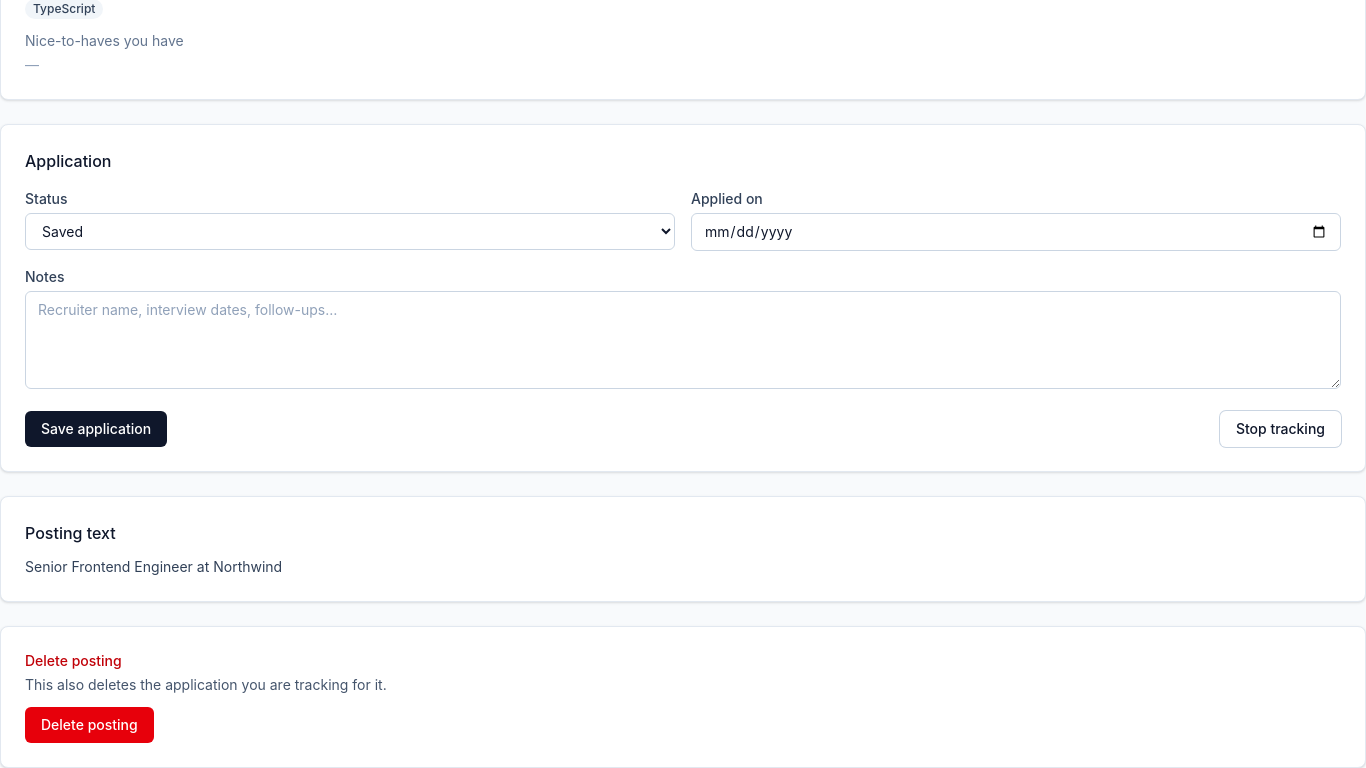
Test: PostingDetailPage › warns that deleting the posting also deletes its application
The width and height of the screenshot is (1366, 768).
(page scrolled)
Click the button "Delete posting": [89, 725] box x1=25 y1=707 x2=154 y2=743
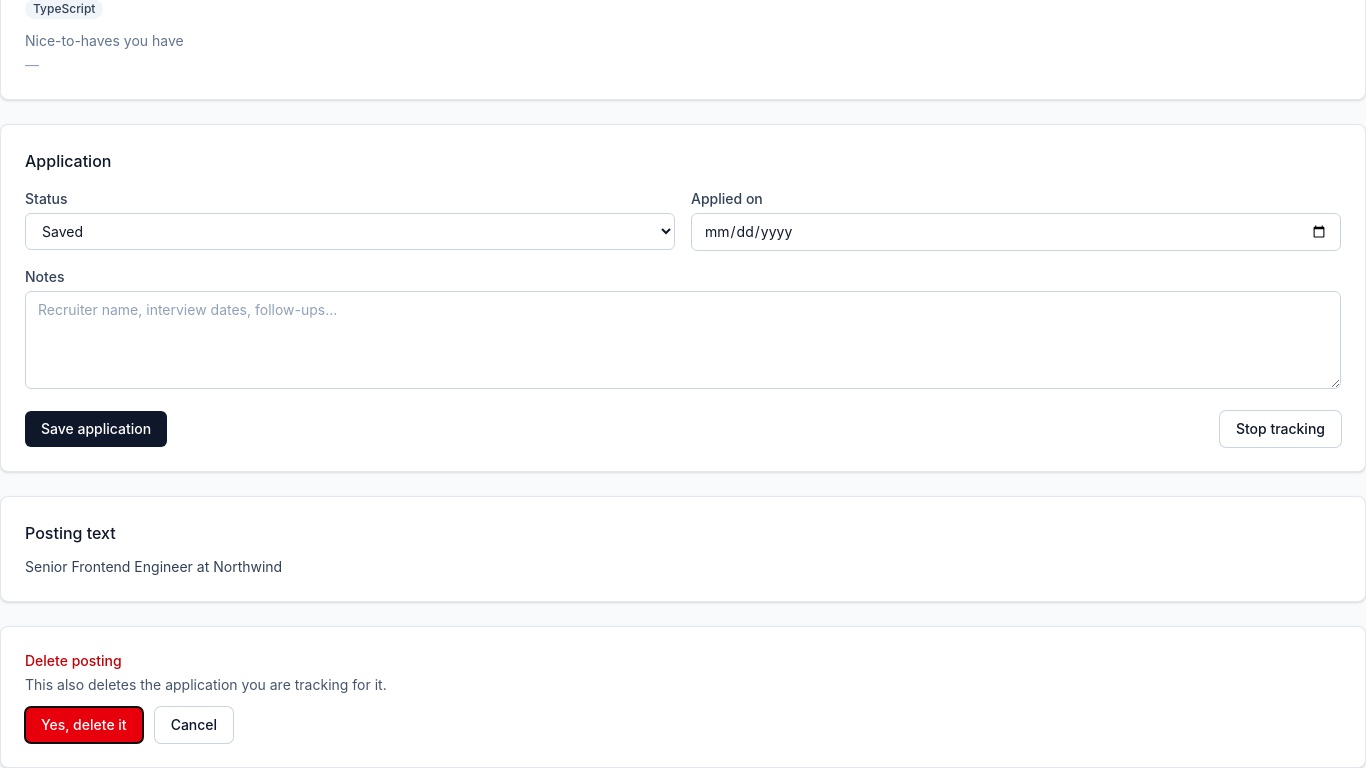
Expected: the text "This also deletes the application you are tracking for it." is shown, x1=25 y1=676 x2=387 y2=693
Expected: the button "Yes, delete it" is shown, x1=25 y1=707 x2=143 y2=743
